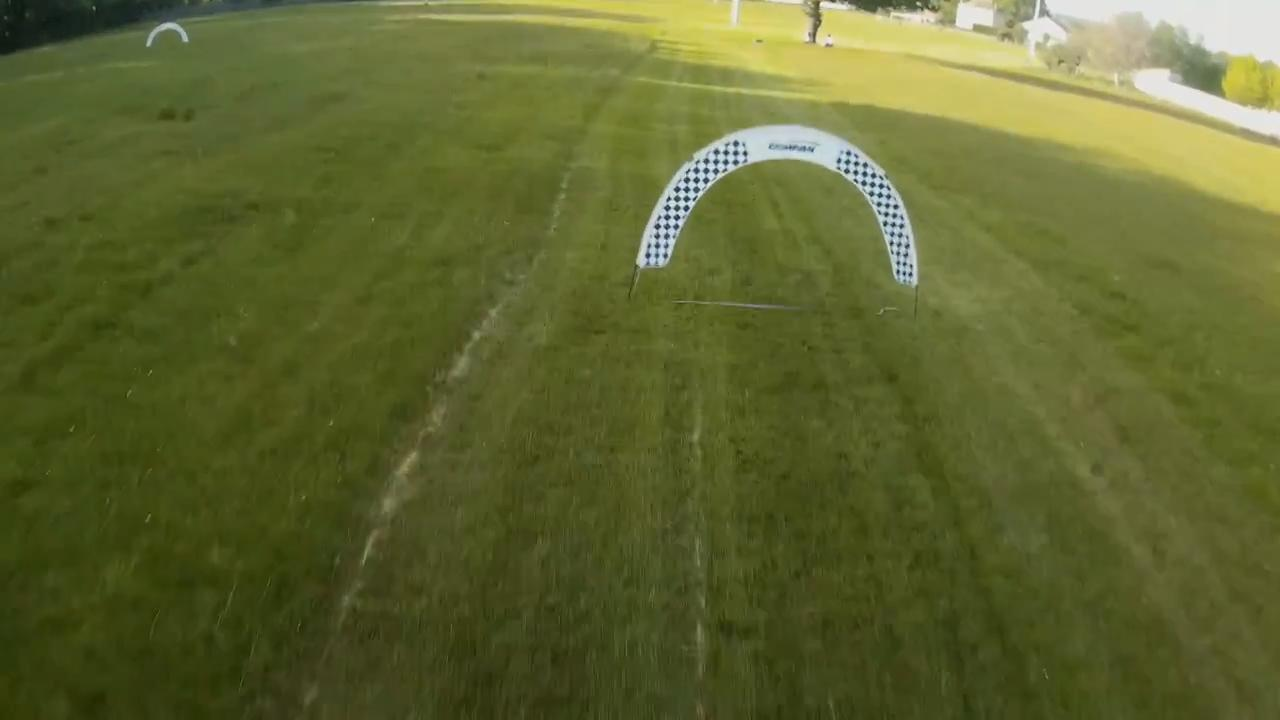gate: (634, 123, 916, 285), (145, 22, 188, 48)
